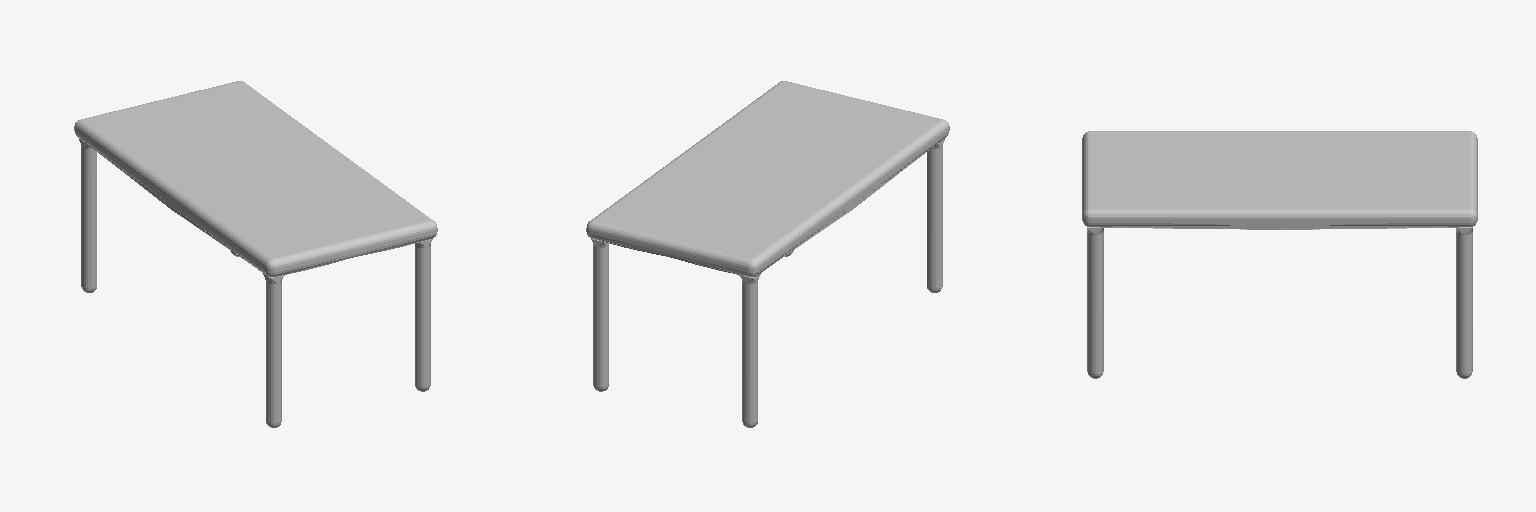
The model's file is desk.obj.
3 views of the same model, side by side, from view 1: azimuth 30°, elevation 25°; view 2: azimuth 150°, elevation 25°; view 3: azimuth 270°, elevation 25° (orthographic).
Visible parts, largest first — view 1: Cube; view 2: Cube; view 3: Cube.
Part boxes in pixels (bbox=[...]): Cube: bbox=[74, 81, 437, 427]; Cube: bbox=[586, 81, 949, 427]; Cube: bbox=[1082, 131, 1477, 378].
Size of the model in its own units: 2 by 1.91 by 4.